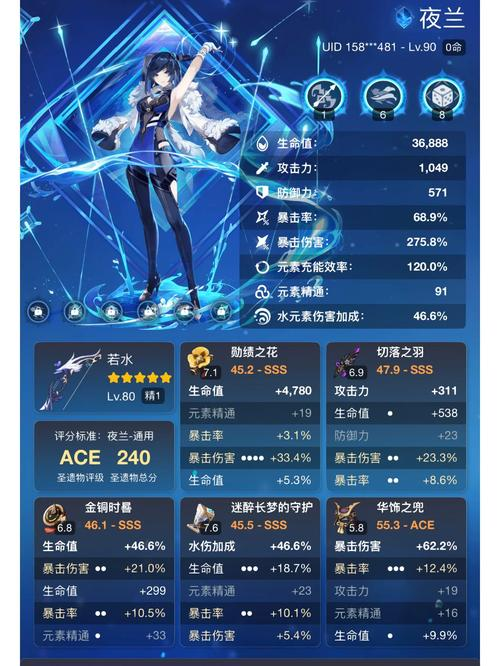夜兰: (96, 39, 239, 325)
